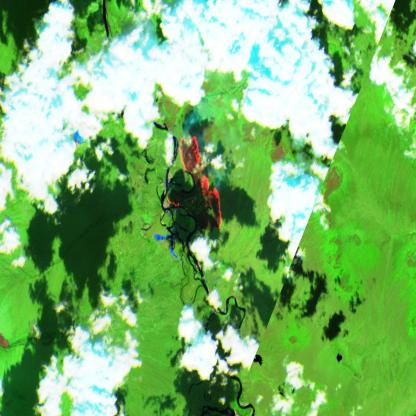fire: (165, 134, 224, 232)
